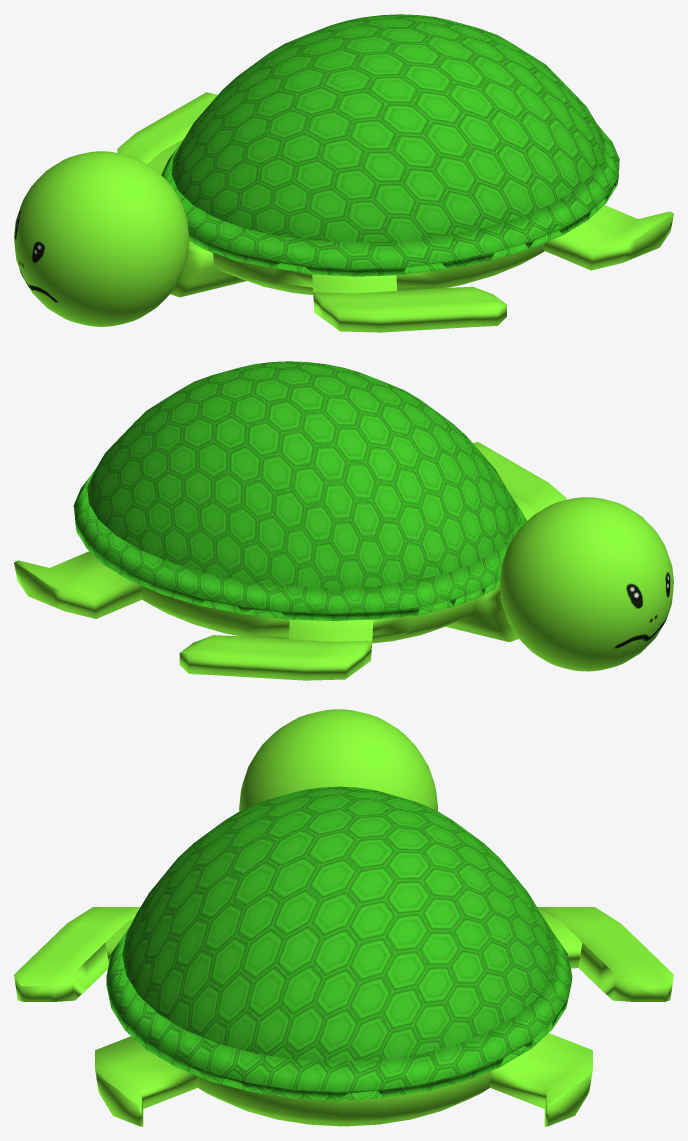
File: sea turtle.glb
The picture shows the model from 3 angles, top to bottom: view 1: azimuth 30°, elevation 25°; view 2: azimuth 150°, elevation 25°; view 3: azimuth 270°, elevation 25°; orthographic projection. The views are drawn at different scales.
Visible parts, largest first — view 1: turtleshell, face, body; view 2: turtleshell, face, body; view 3: turtleshell, body, face.
Boxes of the visible parts, x1,y1,x2,y2 form: turtleshell: (161, 14, 619, 276); face: (14, 151, 246, 326); body: (117, 92, 673, 332); turtleshell: (73, 361, 526, 620); face: (446, 497, 673, 671); body: (14, 442, 566, 680); turtleshell: (106, 786, 572, 1100); body: (14, 907, 673, 1126); face: (239, 709, 437, 811).
Bounding box in the file's own units: 4.5 × 1.71 × 3.98.
3 materials, 3 textured.
